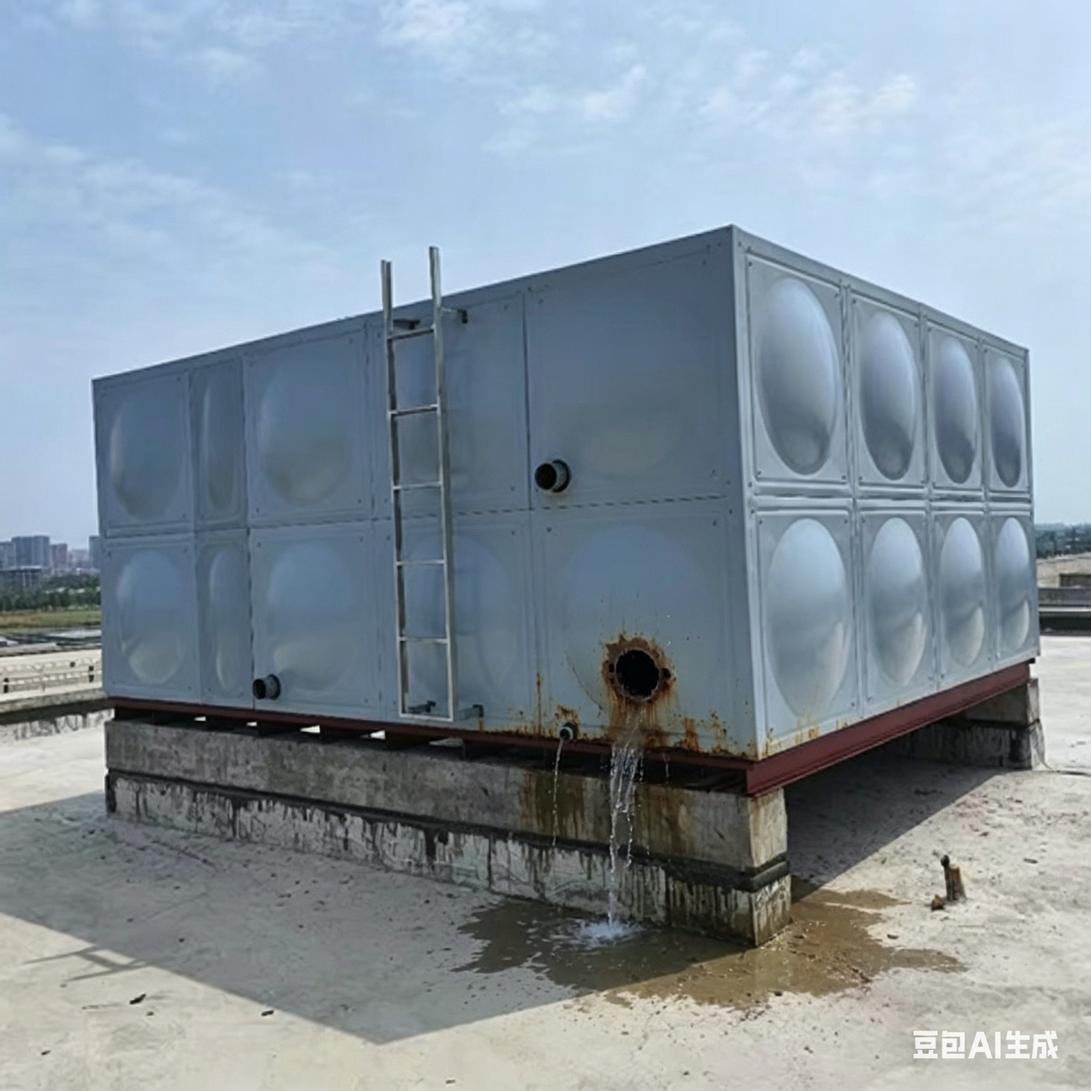Leakage: (519, 726, 686, 971), (698, 908, 959, 999)
